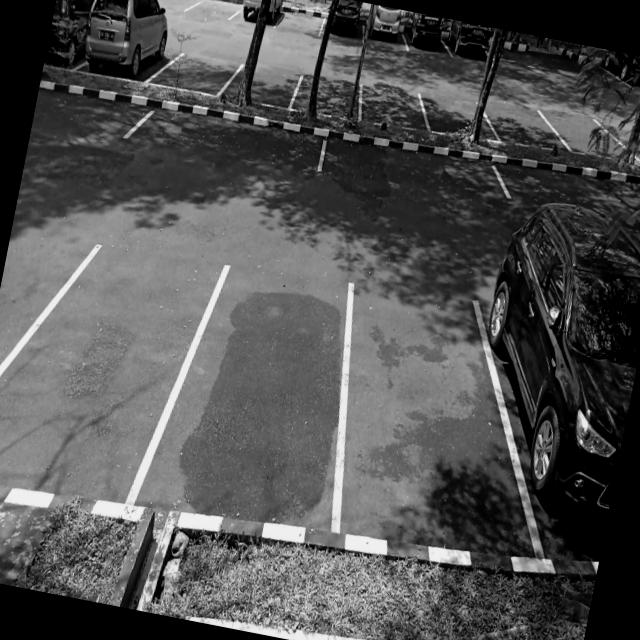car: (477, 251, 640, 569), (76, 1, 175, 90), (318, 0, 371, 45), (235, 0, 288, 32)
free: (156, 255, 366, 538), (0, 226, 203, 505), (318, 284, 522, 554), (125, 90, 328, 179), (316, 125, 512, 214), (157, 46, 240, 104), (418, 88, 496, 142), (291, 68, 366, 124), (354, 81, 432, 132), (486, 98, 562, 150), (230, 58, 301, 112), (275, 0, 328, 40), (185, 0, 241, 25)
